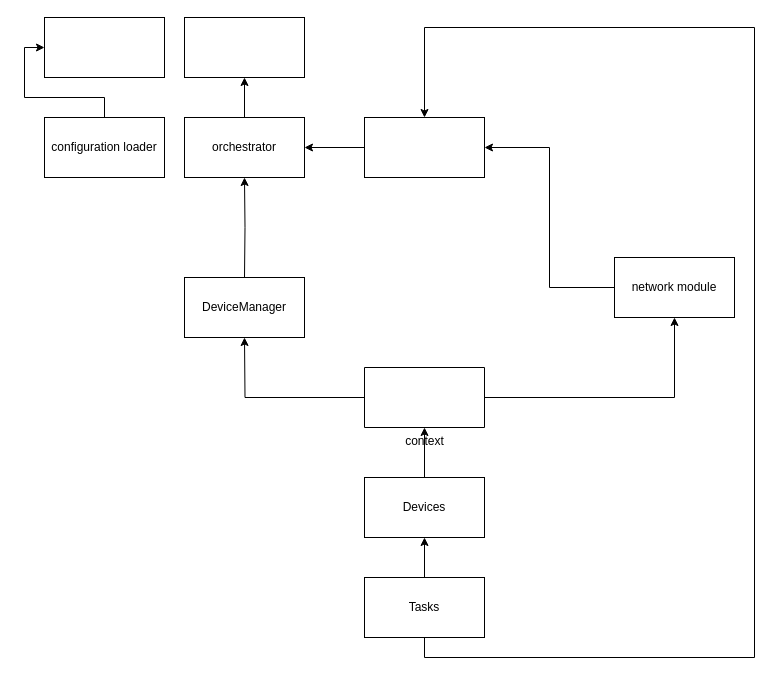
The diagram is 780 pixels wide and 683 high, and some of its shapes have lost their labels. Here are the shapes that lost their labels. From the top down, the centre of each, then its label:
At point 104,47: "main program".
At point 244,47: "Scheduler".
At point 424,147: "tasks manager".
